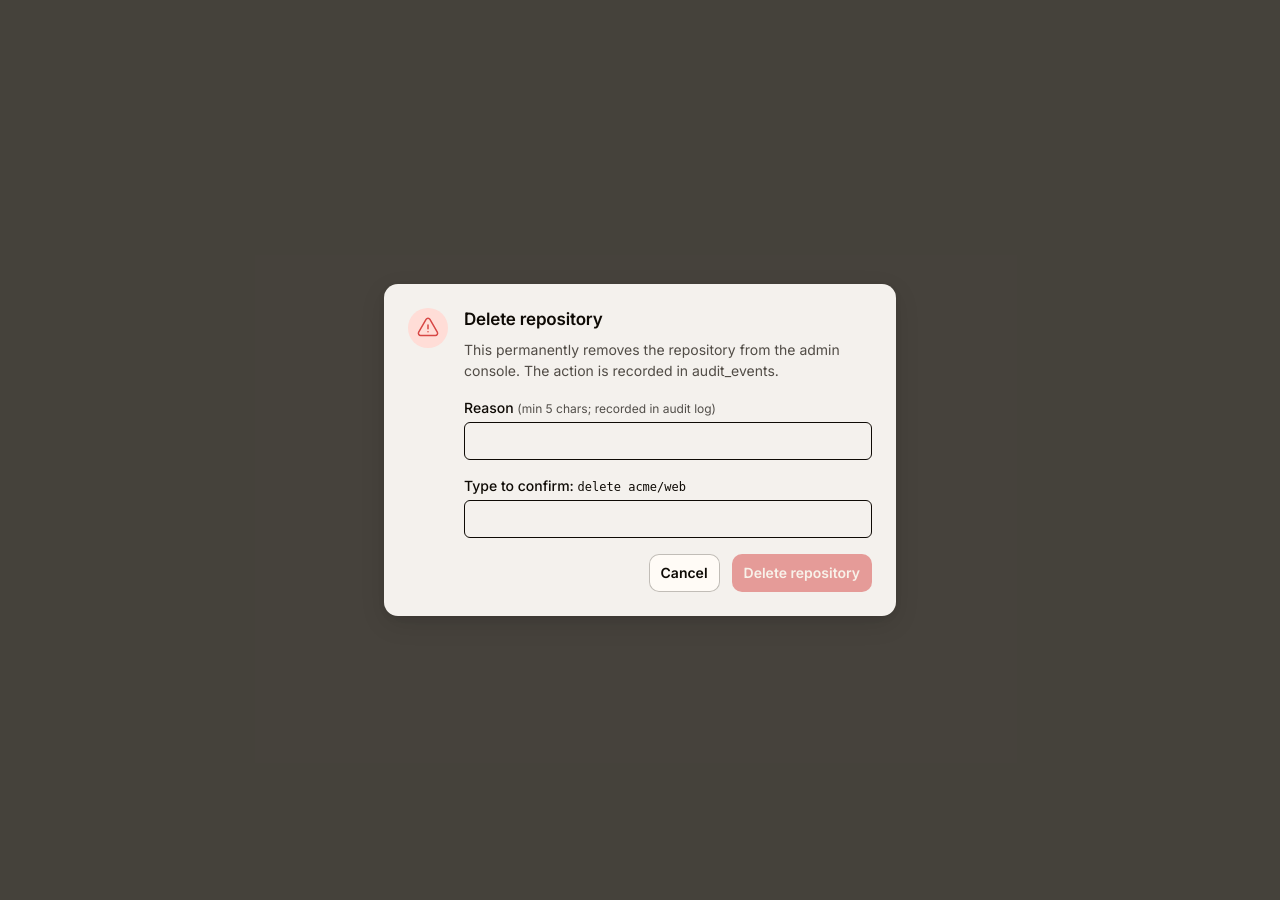
Test: ConfirmDangerousActionModal (Y.11) › typed phrase comparison is case-sensitive + whitespace-trim-aware
The image size is (1280, 900).
Step 1. Type "valid reason" into the field labelled "Reason (min 5 chars; recorded in audit log)" → (668, 441), box [464,422,872,460]
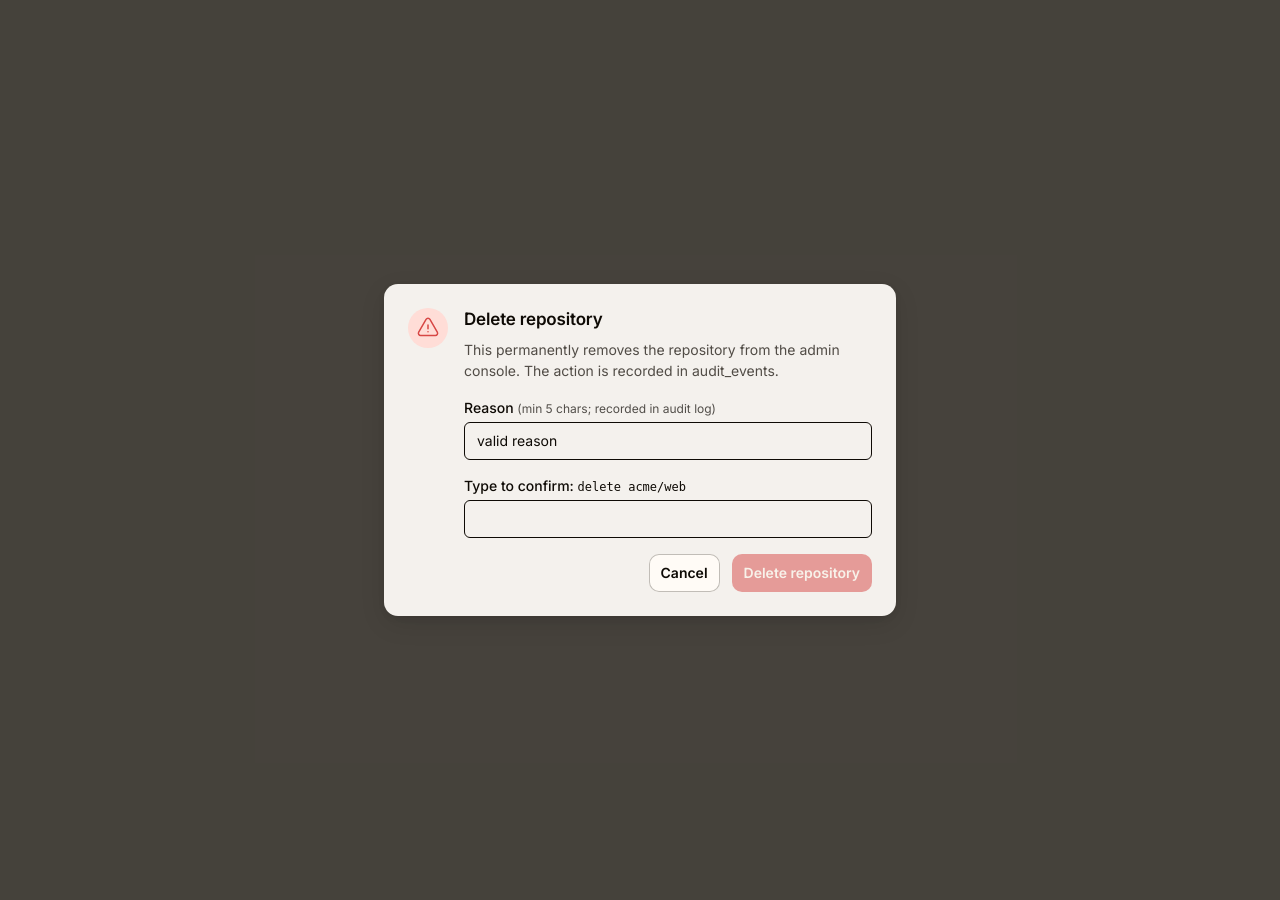
Step 2. Type "DELETE ACME/WEB" into the field labelled "Type to confirm: delete acme/web" → (668, 519), box [464,500,872,538]
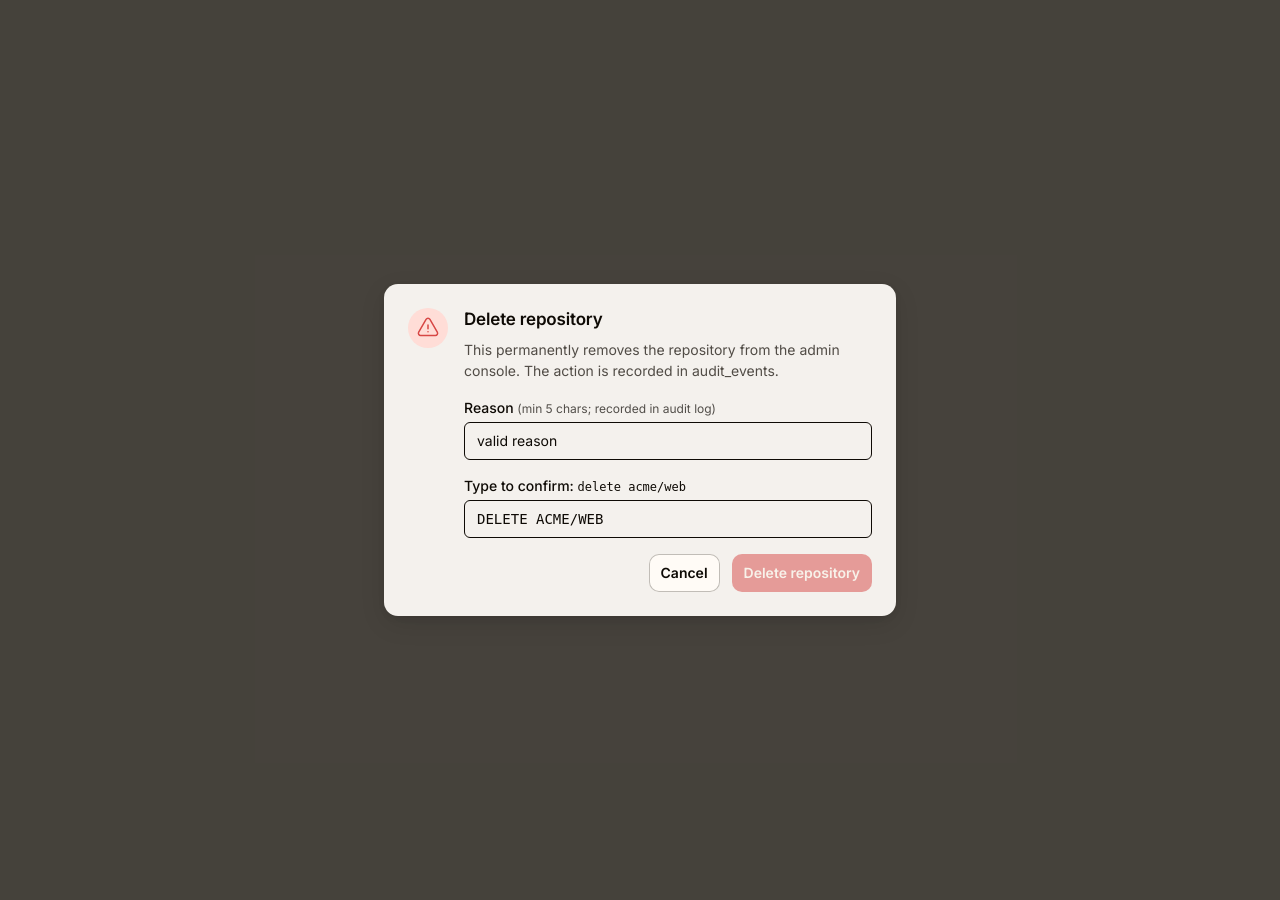
Expected: the button "Delete repository" is disabled, [732,554,872,592]
Step 3. Replace the text in the field labelled "Type to confirm: delete acme/web" with "  delete acme/web   " → (668, 519), box [464,500,872,538]
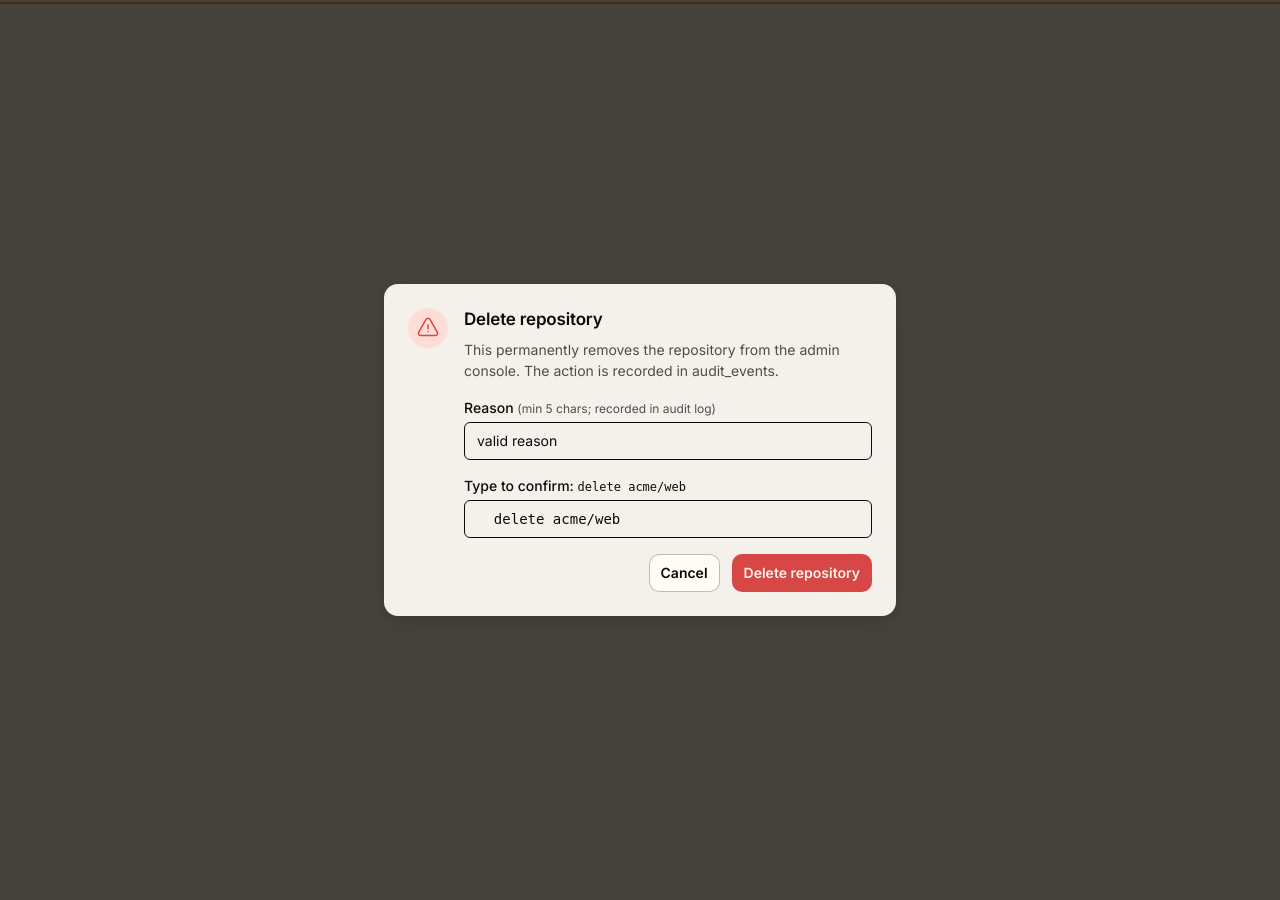
Now the button "Delete repository" is enabled, box [732,554,872,592]
